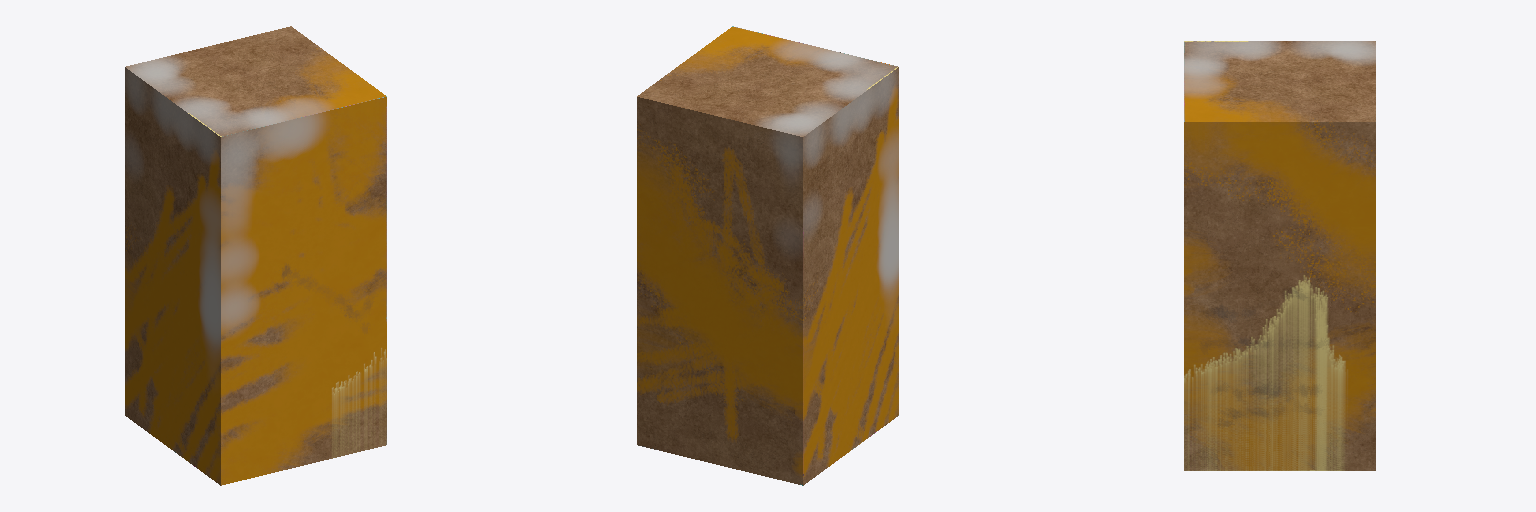
3 views of the same model, side by side, from view 1: azimuth 30°, elevation 25°; view 2: azimuth 150°, elevation 25°; view 3: azimuth 270°, elevation 25° (orthographic).
Visible parts, largest first — view 1: Cube_Cube_Cube_Cube; view 2: Cube_Cube_Cube_Cube; view 3: Cube_Cube_Cube_Cube.
Boxes of the visible parts, x1,y1,x2,y2 form: Cube_Cube_Cube_Cube: [125, 26, 386, 485]; Cube_Cube_Cube_Cube: [637, 26, 898, 485]; Cube_Cube_Cube_Cube: [1184, 41, 1375, 470].
Bounding box in the file's own units: 1 × 2 × 1.
1 materials, 1 textured.